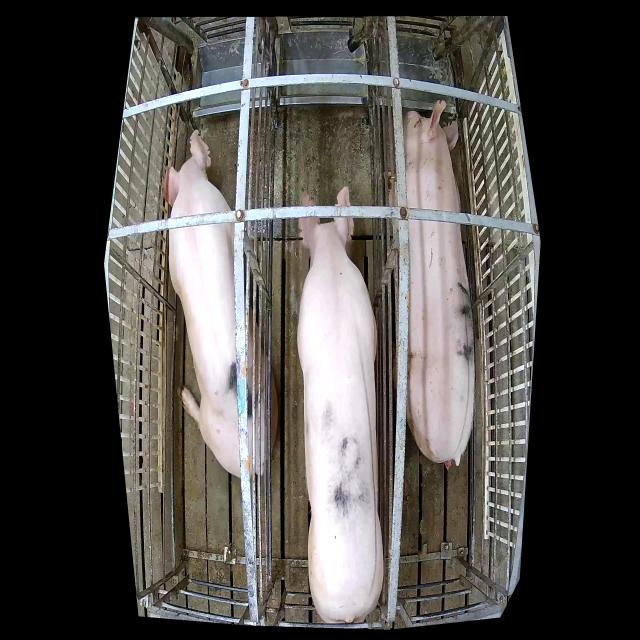pig: (161, 129, 278, 478), (297, 185, 383, 622), (402, 100, 475, 468)
